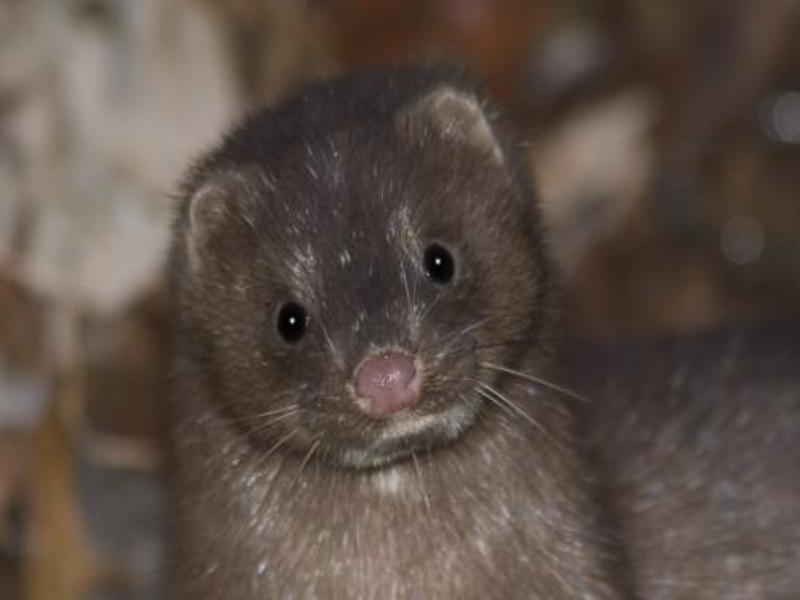minkish: (154, 55, 800, 597)
